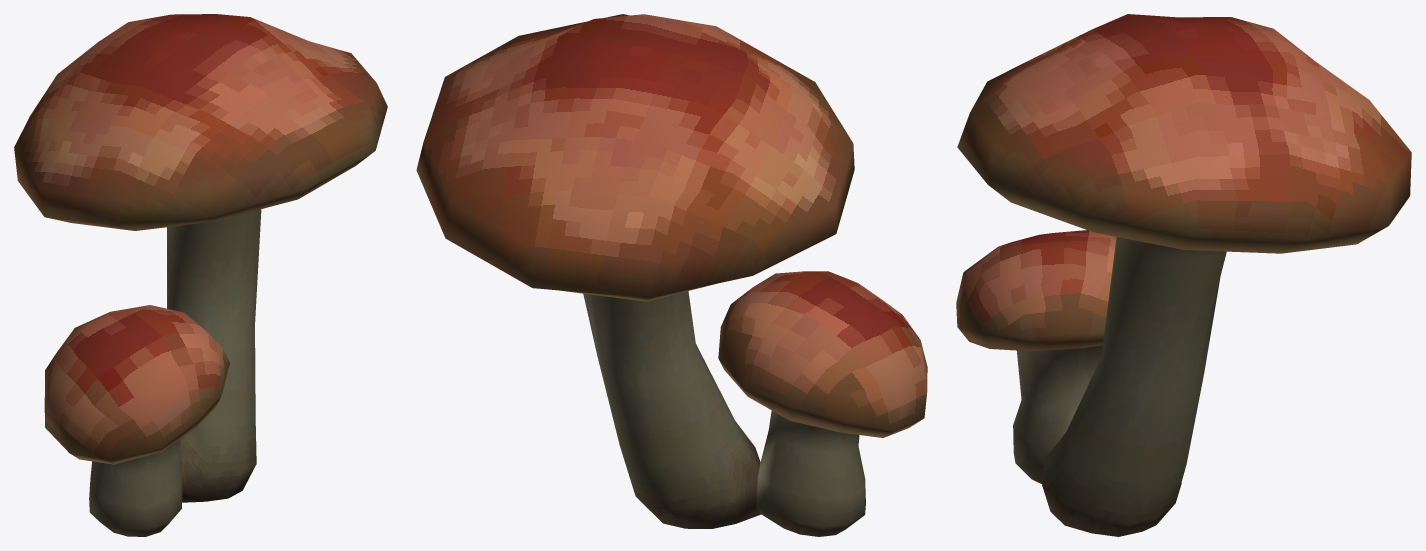
Rendered from Obj_MashroomHeart_A_01.glb.
3 renders of one model, left to right at view 1: azimuth 30°, elevation 25°; view 2: azimuth 150°, elevation 25°; view 3: azimuth 270°, elevation 25°, orthographic. The views are drawn at different scales.
Visible parts, largest first — view 1: Obj_MashroomHeart_A_01; view 2: Obj_MashroomHeart_A_01; view 3: Obj_MashroomHeart_A_01.
Boxes of the visible parts, <box> form: Obj_MashroomHeart_A_01: <box>14,14,387,536</box>; Obj_MashroomHeart_A_01: <box>416,14,927,536</box>; Obj_MashroomHeart_A_01: <box>956,14,1411,536</box>.
Size of the model in its own units: 0.6658 by 0.76 by 0.6208.
1 material, 1 textured.
